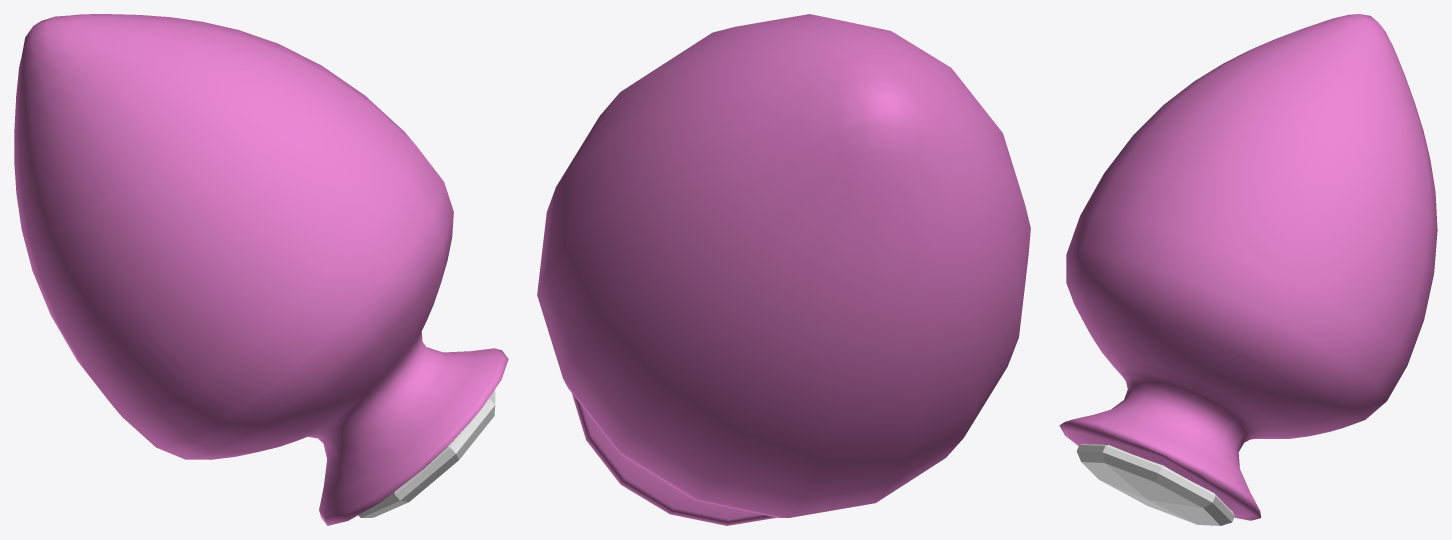
The model's file is PLUG.fbx.
3 renders of one model, left to right at view 1: azimuth 30°, elevation 25°; view 2: azimuth 150°, elevation 25°; view 3: azimuth 270°, elevation 25°, orthographic. The views are drawn at different scales.
Visible parts, largest first — view 1: Circle.012; view 2: Circle.012; view 3: Circle.012.
Part boxes in pixels (x1,y1,x2,y2): Circle.012: [14, 14, 508, 525]; Circle.012: [537, 14, 1030, 525]; Circle.012: [1059, 14, 1437, 525].
Bounding box in the file's own units: 129 × 148 × 122.
